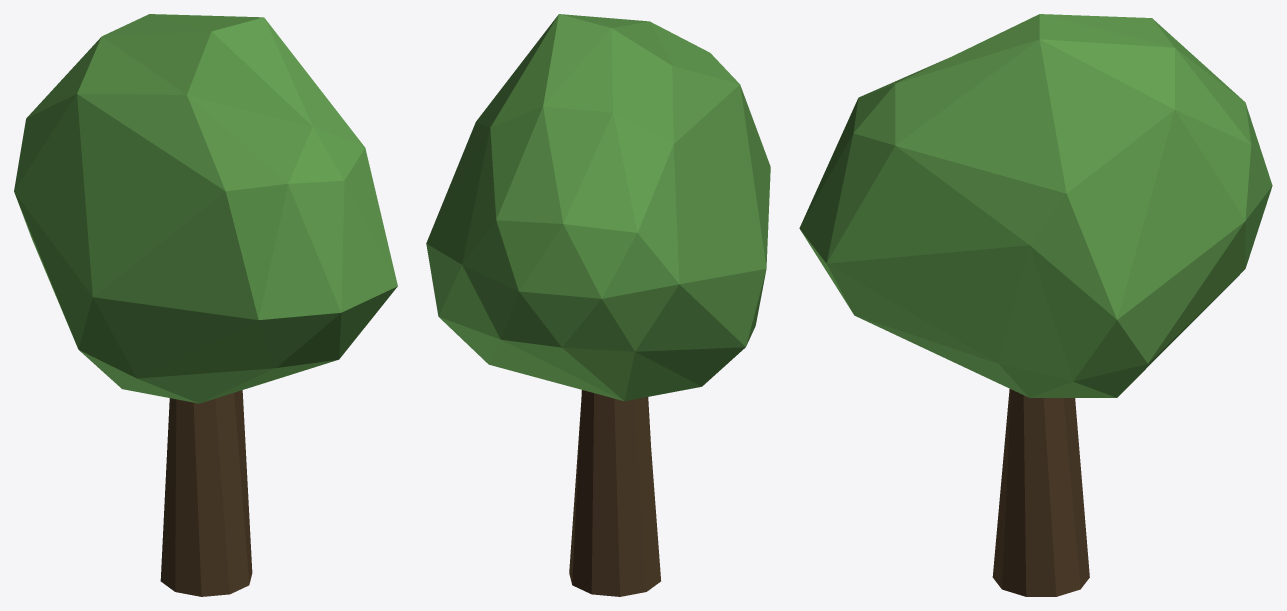
Rendered from TreeV5.fbx.
The picture shows the model from 3 angles, left to right: view 1: azimuth 30°, elevation 25°; view 2: azimuth 150°, elevation 25°; view 3: azimuth 270°, elevation 25°; orthographic projection. The views are drawn at different scales.
Visible parts, largest first — view 1: Icosphere, Cylinder; view 2: Icosphere, Cylinder; view 3: Icosphere, Cylinder.
Boxes of the visible parts, x1,y1,x2,y2 form: Icosphere: [14, 14, 397, 403]; Cylinder: [160, 390, 252, 596]; Icosphere: [426, 14, 770, 401]; Cylinder: [569, 390, 660, 596]; Icosphere: [799, 14, 1272, 397]; Cylinder: [992, 389, 1089, 596].
Size of the model in its own units: 240 by 441 by 333.
